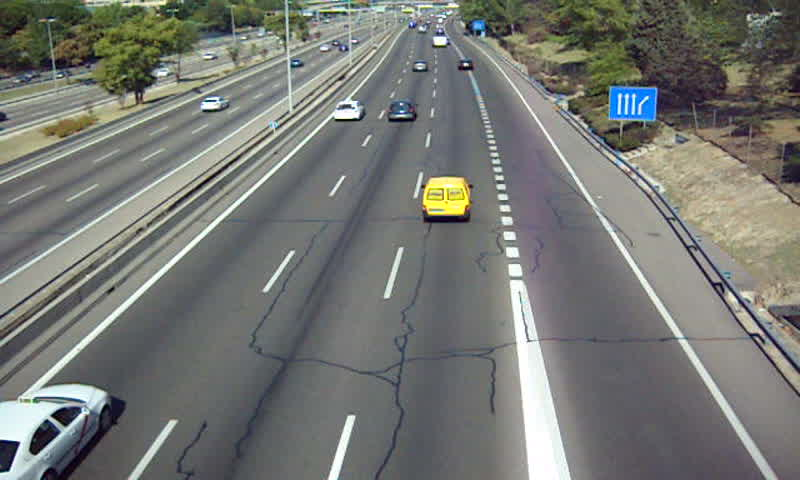car: (1, 382, 112, 480), (386, 100, 417, 124), (332, 100, 364, 121), (457, 58, 475, 72), (411, 60, 428, 74)
van: (422, 177, 471, 220)
